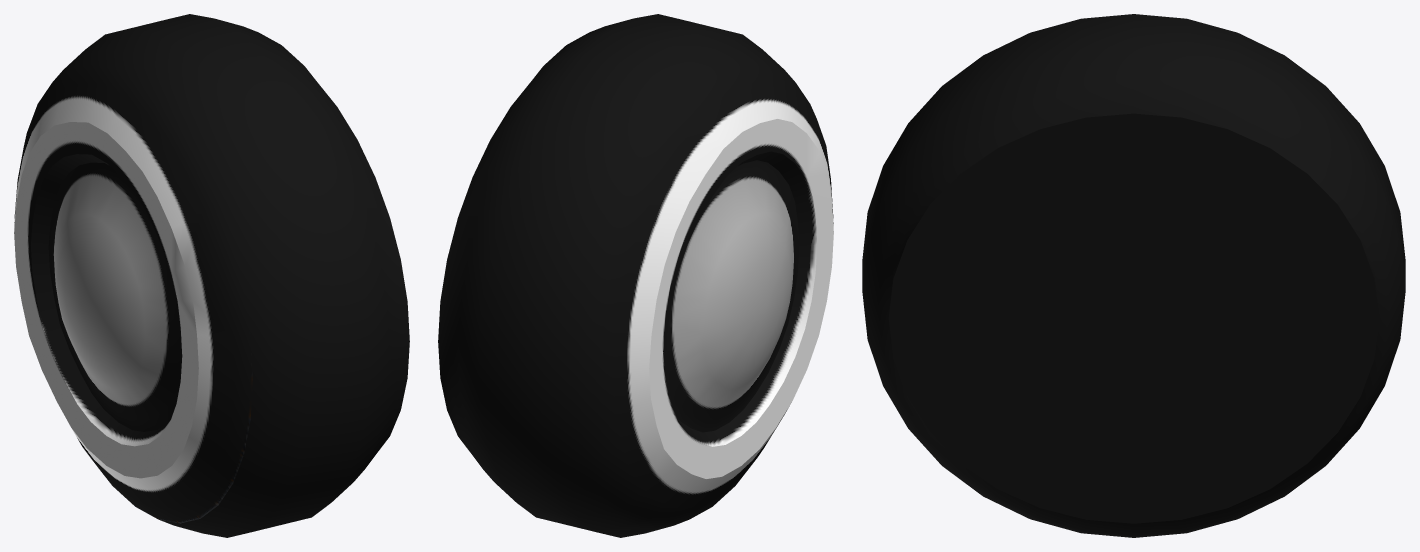
The model's file is classicbugwheelRight.glb.
3 renders of one model, left to right at view 1: azimuth 30°, elevation 25°; view 2: azimuth 150°, elevation 25°; view 3: azimuth 270°, elevation 25°, orthographic. The views are drawn at different scales.
Visible parts, largest first — view 1: Plane_001_Plane_002.002; view 2: Plane_001_Plane_002.002; view 3: Plane_001_Plane_002.002.
Boxes of the visible parts, x1=… form: Plane_001_Plane_002.002: x1=14, y1=14, x2=409, y2=537; Plane_001_Plane_002.002: x1=438, y1=14, x2=833, y2=537; Plane_001_Plane_002.002: x1=862, y1=14, x2=1405, y2=537.
Bounding box in the file's own units: 0.1996 × 0.427 × 0.427.
1 material, 1 textured.
